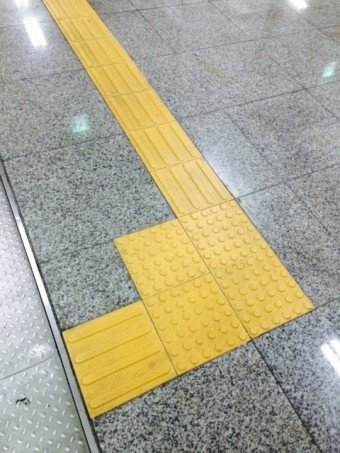guideBlock: (65, 311, 166, 389), (89, 69, 168, 121), (152, 164, 237, 212), (135, 124, 193, 161), (60, 11, 114, 48), (113, 92, 168, 128), (78, 41, 132, 72)
warningBlock: (149, 290, 260, 369), (218, 259, 314, 337), (120, 230, 202, 292), (192, 209, 262, 270)
